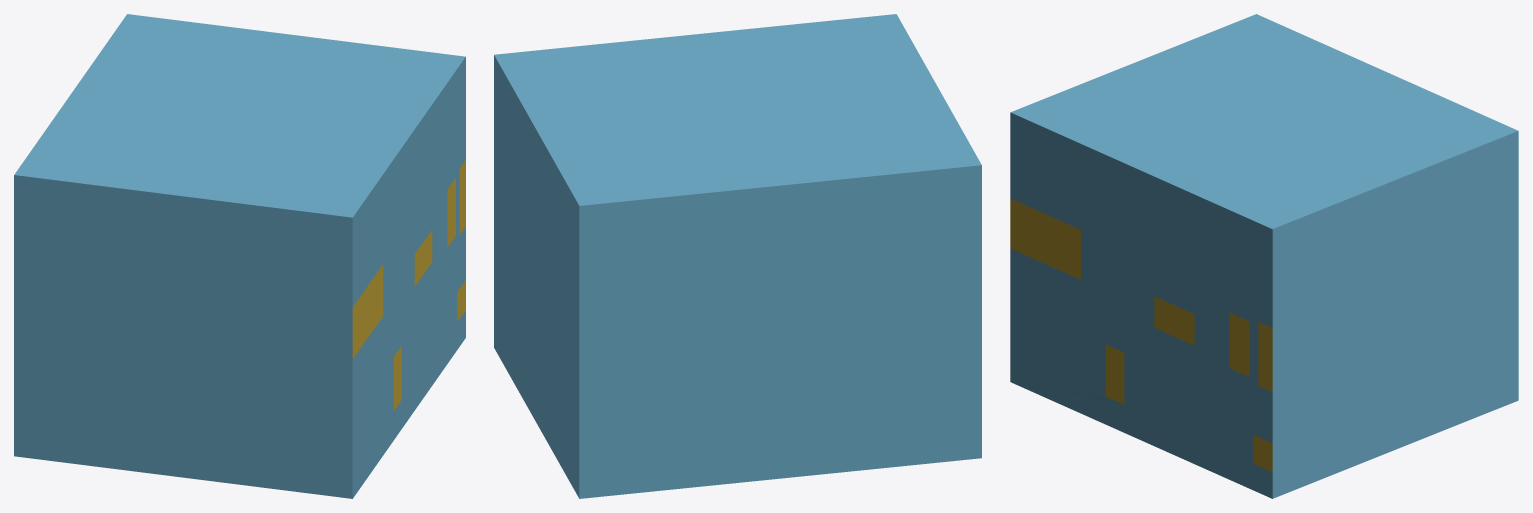
Rendered from bldg_85696946-11f9-4991-9c4a-ca0f17091067.obj.
3 renders of one model, left to right at view 1: azimuth 30°, elevation 25°; view 2: azimuth 150°, elevation 25°; view 3: azimuth 270°, elevation 25°, orthographic. The views are drawn at different scales.
Bounding box in the file's own units: 13.26 × 7.75 × 13.23.
